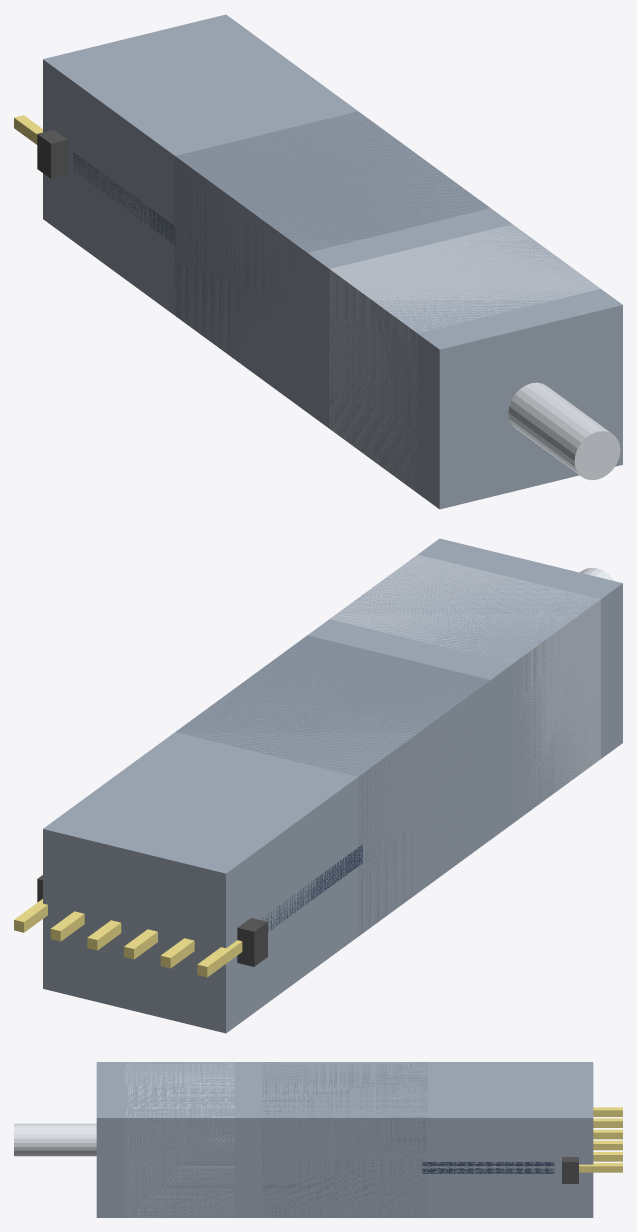
The model's file is n20-gear-motor-encoder.glb.
3 renders of one model, top to bottom at view 1: azimuth 30°, elevation 25°; view 2: azimuth 150°, elevation 25°; view 3: azimuth 270°, elevation 25°, orthographic. The views are drawn at different scales.
Parts seen in each view (by area): view 1: n20-gear-motor-encoder_mesh; view 2: n20-gear-motor-encoder_mesh; view 3: n20-gear-motor-encoder_mesh.
Boxes of the visible parts, <box> form: n20-gear-motor-encoder_mesh: <box>14,14,622,509</box>; n20-gear-motor-encoder_mesh: <box>14,538,622,1033</box>; n20-gear-motor-encoder_mesh: <box>14,1062,622,1217</box>.
Size of the model in its own units: 14.2 by 10 by 55.2.
